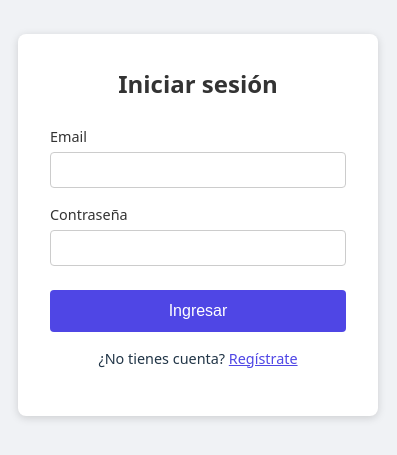
Login › login fallido muestra error y no navega
Step 1. Type "a@b.com" into the field → (198, 170), box x1=50 y1=152 x2=346 y2=188
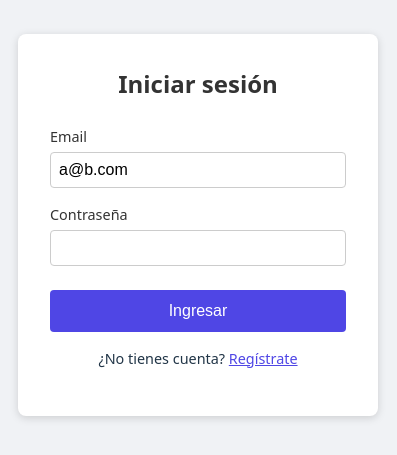
Step 2. Type "wrong" into the password field → (198, 248), box x1=50 y1=230 x2=346 y2=266
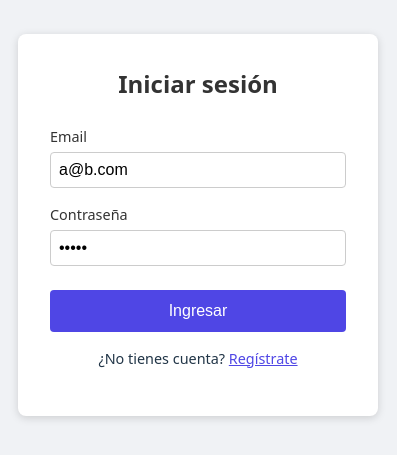
Step 3. Click the button "Ingresar" → click(198, 311), box x1=50 y1=290 x2=346 y2=332
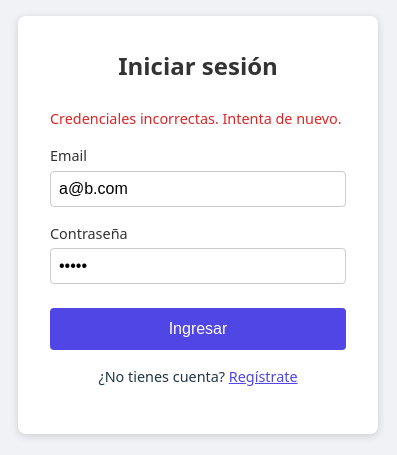
Expected: the text "Credenciales incorrectas. Intenta de nuevo." is shown, x1=50 y1=108 x2=346 y2=129
